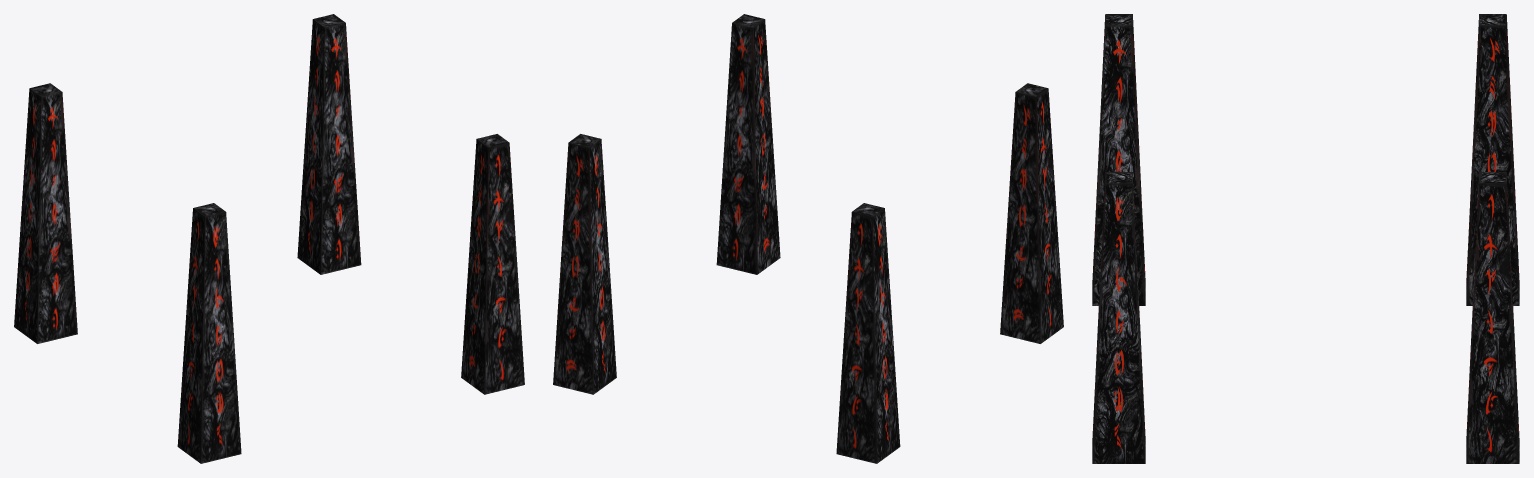
File: pillars.fbx
3 views of the same model, side by side, from view 1: azimuth 30°, elevation 25°; view 2: azimuth 150°, elevation 25°; view 3: azimuth 270°, elevation 25° (orthographic). The views are drawn at different scales.
Visible parts, largest first — view 1: pCube5, pCube6, pCube7, pCube8; view 2: pCube7, pCube8, pCube5, pCube6; view 3: pCube5, pCube7, pCube6, pCube8.
Part boxes in pixels (x1,y1,x2,y2): pCube5: [297, 14, 361, 274]; pCube6: [177, 203, 241, 463]; pCube7: [461, 134, 524, 394]; pCube8: [14, 83, 77, 343]; pCube7: [716, 14, 780, 274]; pCube8: [836, 203, 900, 463]; pCube5: [553, 134, 616, 394]; pCube6: [1000, 83, 1063, 343]; pCube5: [1466, 172, 1519, 463]; pCube7: [1092, 172, 1145, 463]; pCube6: [1092, 14, 1145, 305]; pCube8: [1466, 14, 1519, 305].
Bounding box in the file's own units: 224 × 159 × 224.
